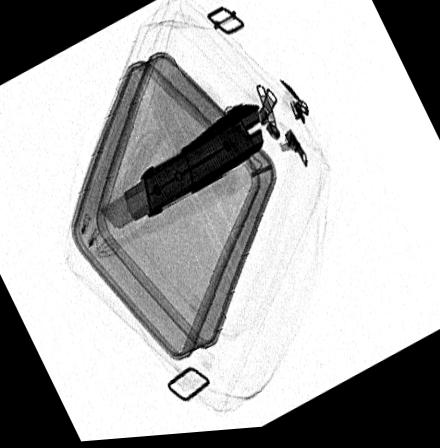Knife: (98, 106, 265, 231)
